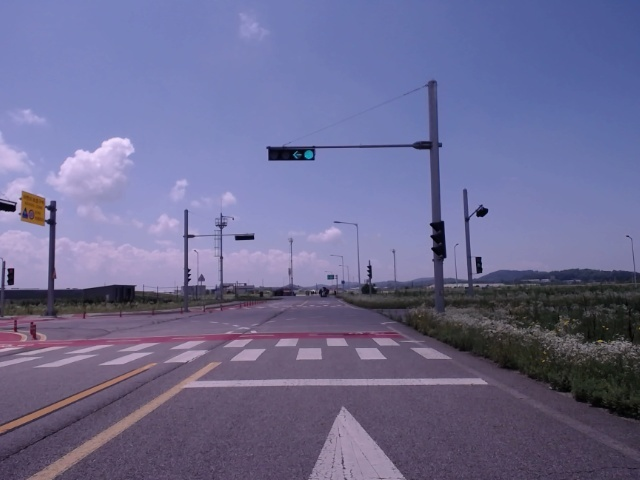all_green_4: (268, 144, 316, 161)
